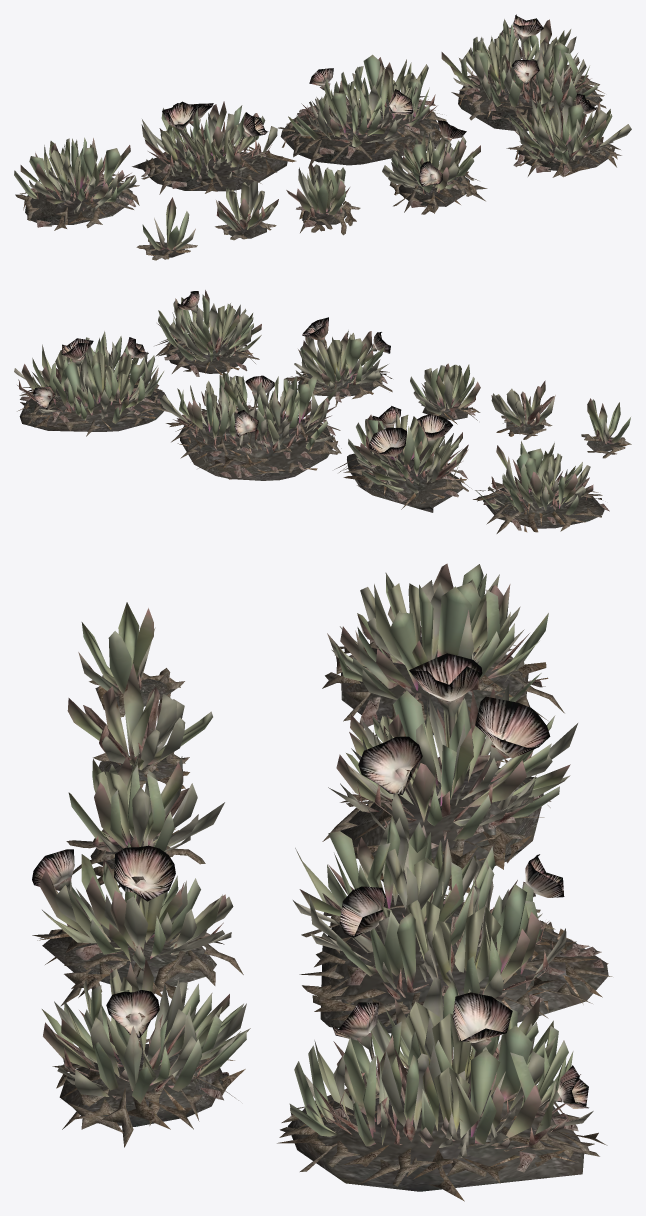
The model's file is cheiridopsis_succulent.glb.
3 renders of one model, top to bottom at view 1: azimuth 30°, elevation 25°; view 2: azimuth 150°, elevation 25°; view 3: azimuth 270°, elevation 25°, orthographic. The views are drawn at different scales.
Parts seen in each view (by area): view 1: cheiridopsis_succulent_h_LOD0, cheiridopsis_succulent_i_LOD0, cheiridopsis_succulent_g_LOD0, cheiridopsis_succulent_f_LOD0, cheiridopsis_succulent_e_LOD0, cheiridopsis_succulent_d_LOD0, cheiridopsis_succulent_c_LOD0, cheiridopsis_succulent_b_LOD0, cheiridopsis_succulent_a_LOD0; view 2: cheiridopsis_succulent_h_LOD0, cheiridopsis_succulent_i_LOD0, cheiridopsis_succulent_g_LOD0, cheiridopsis_succulent_f_LOD0, cheiridopsis_succulent_e_LOD0, cheiridopsis_succulent_d_LOD0, cheiridopsis_succulent_c_LOD0, cheiridopsis_succulent_b_LOD0, cheiridopsis_succulent_a_LOD0; view 3: cheiridopsis_succulent_i_LOD0, cheiridopsis_succulent_h_LOD0, cheiridopsis_succulent_g_LOD0, cheiridopsis_succulent_e_LOD0, cheiridopsis_succulent_d_LOD0, cheiridopsis_succulent_f_LOD0, cheiridopsis_succulent_c_LOD0, cheiridopsis_succulent_b_LOD0, cheiridopsis_succulent_a_LOD0.
Boxes of the visible parts, x1=… form: cheiridopsis_succulent_h_LOD0: x1=278, y1=54, x2=446, y2=168; cheiridopsis_succulent_i_LOD0: x1=441, y1=14, x2=606, y2=131; cheiridopsis_succulent_g_LOD0: x1=132, y1=101, x2=296, y2=194; cheiridopsis_succulent_f_LOD0: x1=14, y1=137, x2=139, y2=230; cheiridopsis_succulent_e_LOD0: x1=506, y1=94, x2=631, y2=177; cheiridopsis_succulent_d_LOD0: x1=382, y1=120, x2=487, y2=214; cheiridopsis_succulent_c_LOD0: x1=286, y1=163, x2=360, y2=235; cheiridopsis_succulent_b_LOD0: x1=215, y1=180, x2=278, y2=240; cheiridopsis_succulent_a_LOD0: x1=136, y1=197, x2=197, y2=260; cheiridopsis_succulent_h_LOD0: x1=159, y1=372, x2=341, y2=480; cheiridopsis_succulent_i_LOD0: x1=14, y1=331, x2=170, y2=436; cheiridopsis_succulent_g_LOD0: x1=334, y1=406, x2=471, y2=512; cheiridopsis_succulent_f_LOD0: x1=473, y1=441, x2=609, y2=533; cheiridopsis_succulent_e_LOD0: x1=155, y1=290, x2=261, y2=376; cheiridopsis_succulent_d_LOD0: x1=284, y1=317, x2=392, y2=407; cheiridopsis_succulent_c_LOD0: x1=410, y1=363, x2=480, y2=424; cheiridopsis_succulent_b_LOD0: x1=491, y1=380, x2=555, y2=439; cheiridopsis_succulent_a_LOD0: x1=581, y1=398, x2=631, y2=458; cheiridopsis_succulent_i_LOD0: x1=277, y1=977, x2=607, y2=1201; cheiridopsis_succulent_h_LOD0: x1=293, y1=815, x2=612, y2=1033; cheiridopsis_succulent_g_LOD0: x1=322, y1=653, x2=577, y2=893; cheiridopsis_succulent_e_LOD0: x1=42, y1=958, x2=250, y2=1147; cheiridopsis_succulent_d_LOD0: x1=32, y1=841, x2=243, y2=1006; cheiridopsis_succulent_f_LOD0: x1=322, y1=563, x2=564, y2=735; cheiridopsis_succulent_c_LOD0: x1=66, y1=751, x2=224, y2=887; cheiridopsis_succulent_b_LOD0: x1=67, y1=663, x2=212, y2=788; cheiridopsis_succulent_a_LOD0: x1=78, y1=602, x2=184, y2=717.
Size of the model in its own units: 2.16 by 0.2708 by 0.9586.
Materials: 2 (2 with a texture image).
